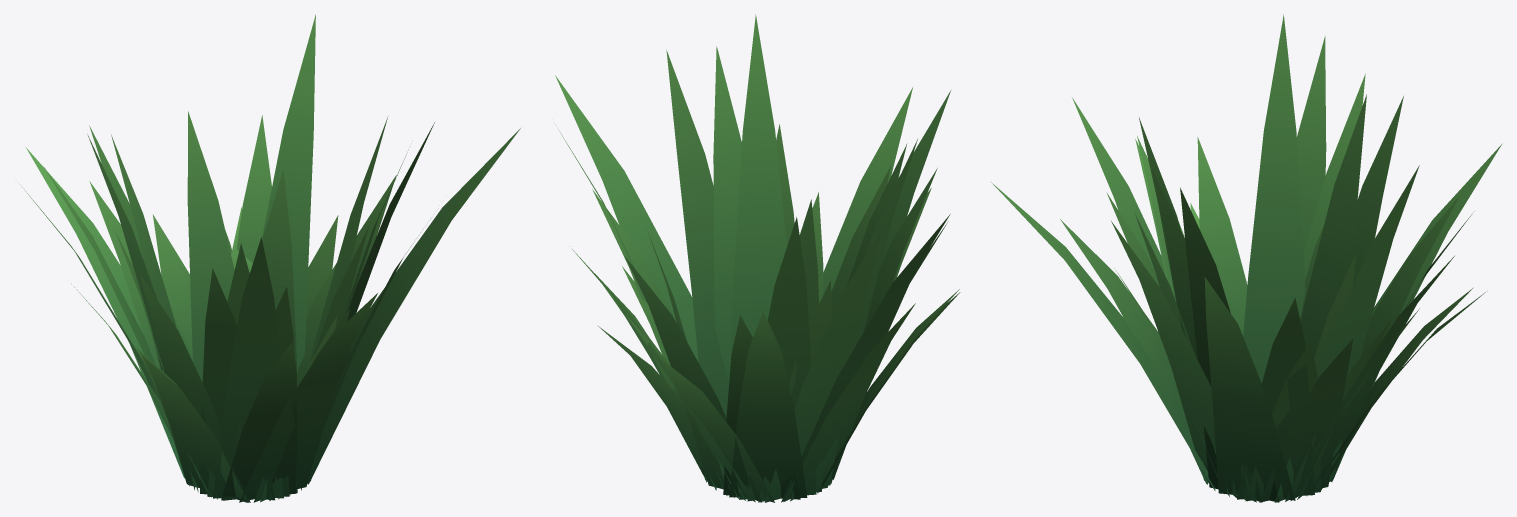
Rendered from grass_tufts.glb.
The picture shows the model from 3 angles, left to right: view 1: azimuth 30°, elevation 25°; view 2: azimuth 150°, elevation 25°; view 3: azimuth 270°, elevation 25°; orthographic projection. The views are drawn at different scales.
Visible parts, largest first — view 1: grass_tufts_1, grass_tufts_0, grass_tufts_2; view 2: grass_tufts_0, grass_tufts_1, grass_tufts_2; view 3: grass_tufts_0, grass_tufts_1, grass_tufts_2.
Boxes of the visible parts, bbox=[...] form: grass_tufts_1: bbox=[18, 128, 520, 502]; grass_tufts_0: bbox=[87, 14, 434, 502]; grass_tufts_2: bbox=[26, 111, 417, 502]; grass_tufts_0: bbox=[558, 14, 948, 502]; grass_tufts_1: bbox=[555, 46, 960, 502]; grass_tufts_2: bbox=[572, 143, 959, 502]; grass_tufts_0: bbox=[1060, 14, 1485, 502]; grass_tufts_1: bbox=[991, 36, 1473, 502]; grass_tufts_2: bbox=[1106, 74, 1502, 502].
Size of the model in its own units: 0.6062 by 0.5016 by 0.5859.
